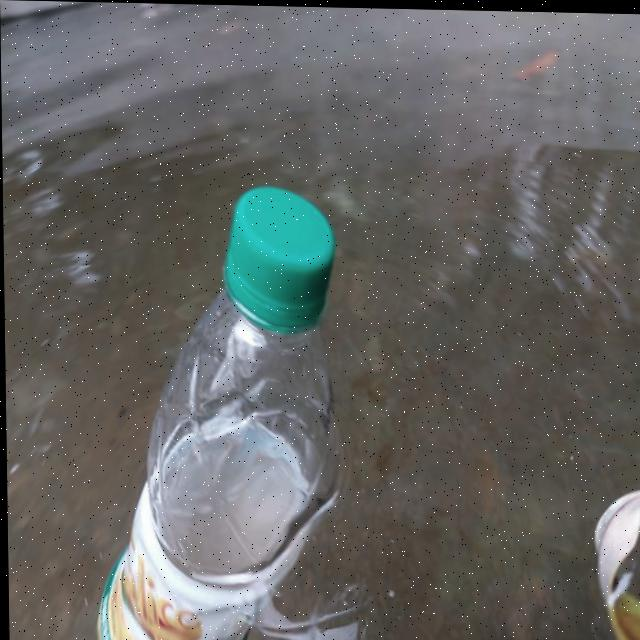leaf: (590, 475, 640, 640)
waterbottle: (86, 159, 374, 640)
